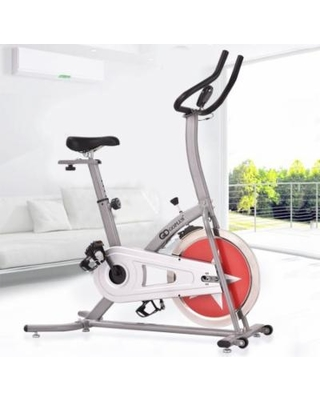gym_bike: (25, 55, 279, 359)
